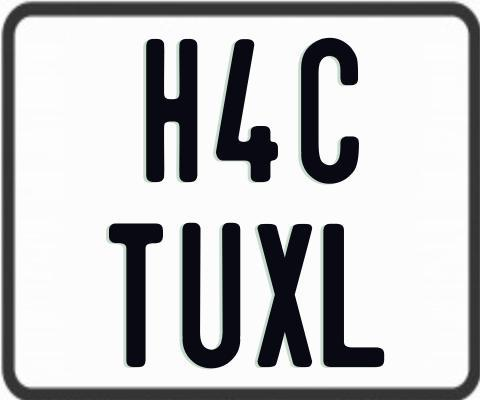4: (216, 36, 284, 185)
C: (299, 35, 360, 181)
H: (145, 38, 199, 187)
L: (323, 224, 387, 369)
T: (107, 222, 163, 372)
U: (180, 220, 244, 370)
X: (255, 222, 313, 369)
